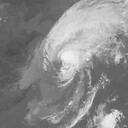cyclone: (43, 38, 92, 87)
